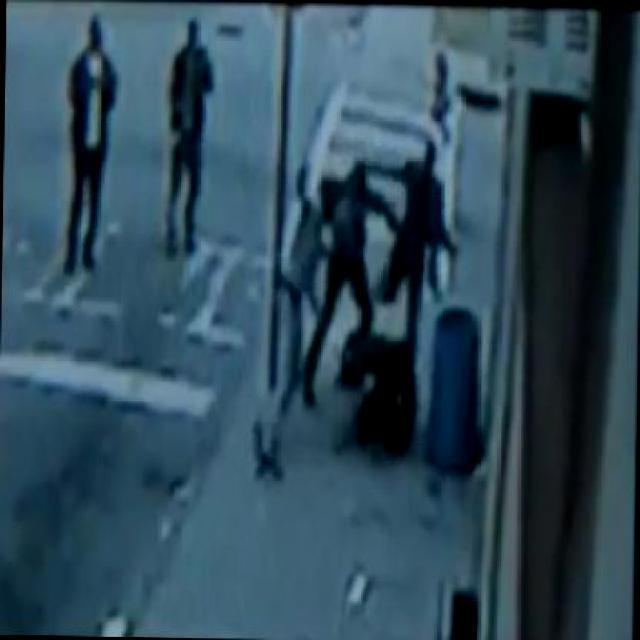fight: (298, 150, 417, 453)
